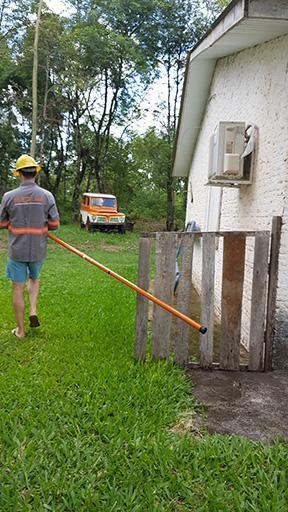helmet: (12, 154, 40, 185)
